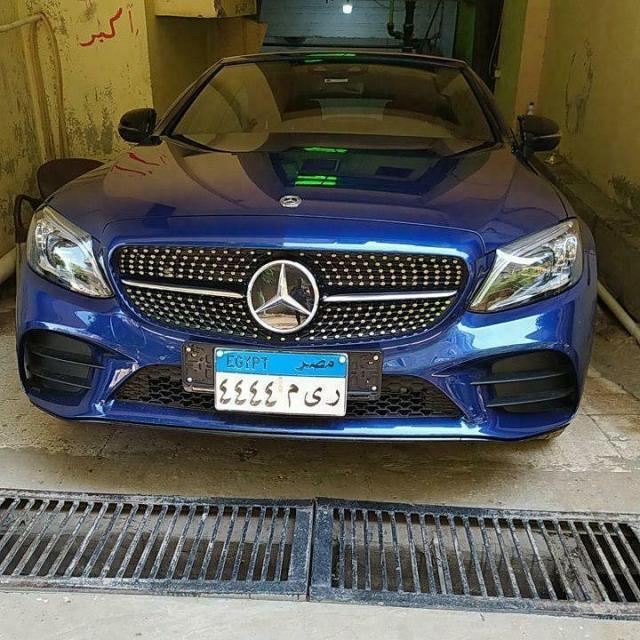License Plate: (212, 346, 350, 419)
